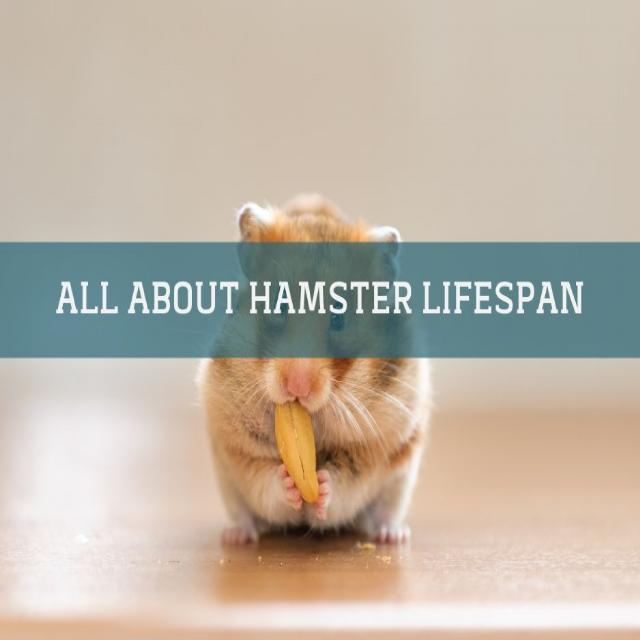hamster: (200, 199, 432, 549)
